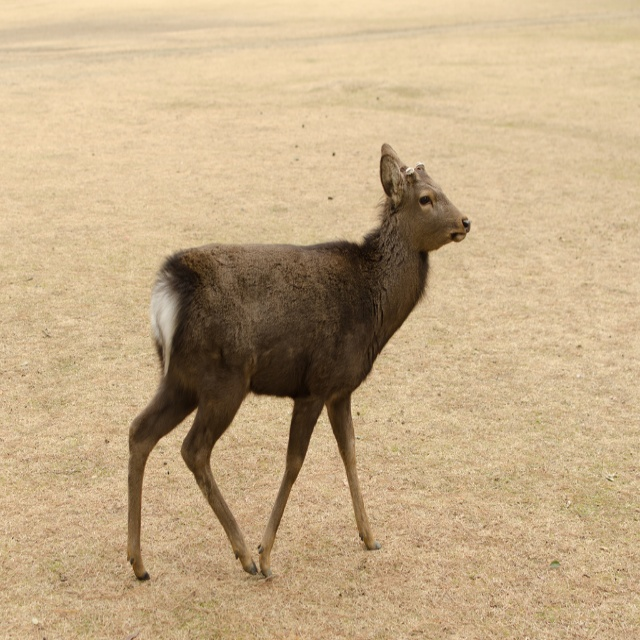Deer: (126, 142, 472, 580)
